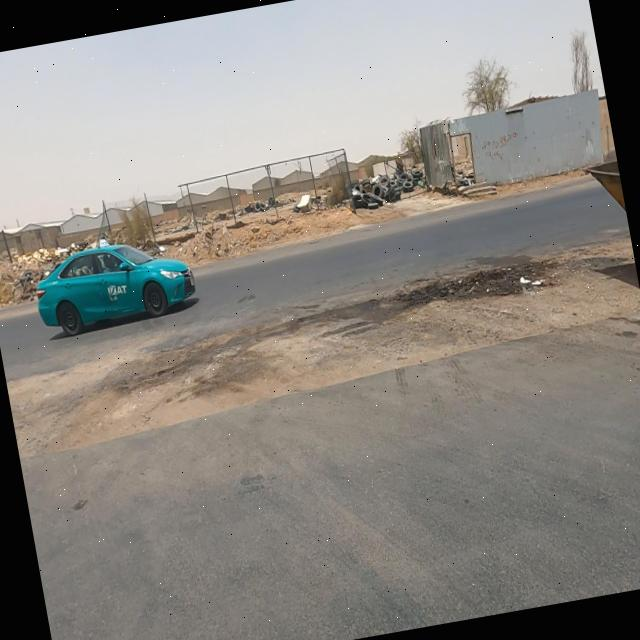Graffiti: (479, 130, 522, 162)
